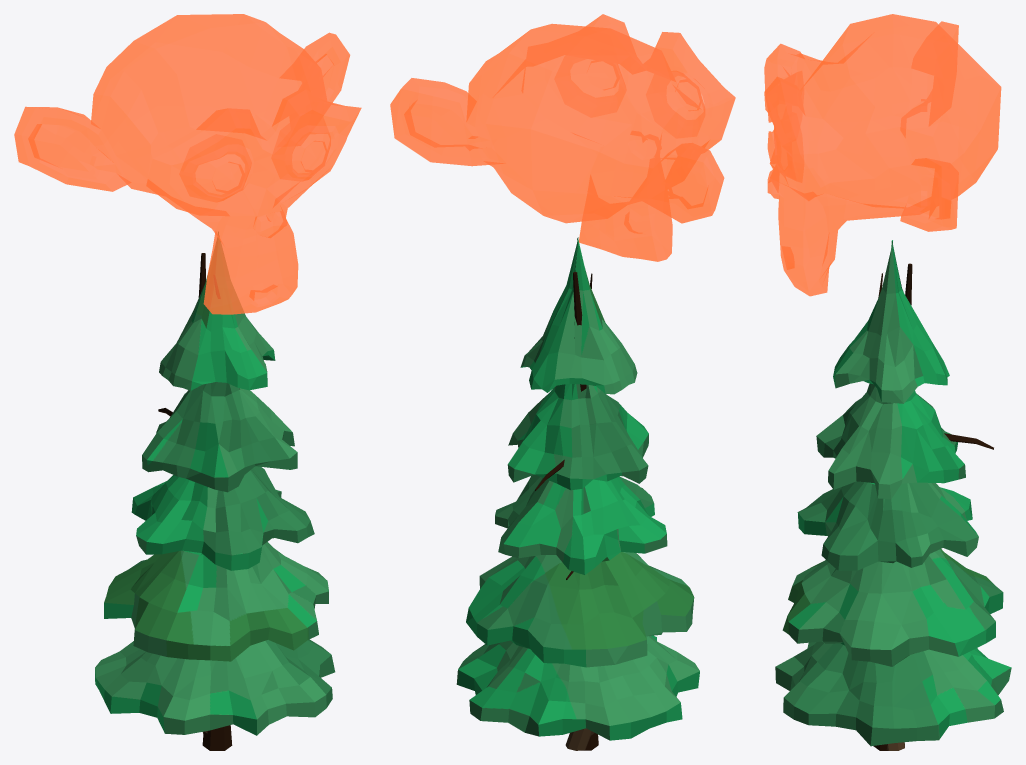
The model's file is tree3.glb.
3 renders of one model, left to right at view 1: azimuth 30°, elevation 25°; view 2: azimuth 150°, elevation 25°; view 3: azimuth 270°, elevation 25°, orthographic.
Visible parts, largest first — view 1: greenTree, fire, deadTree; view 2: greenTree, fire, deadTree; view 3: greenTree, fire, deadTree.
Part boxes in pixels (x1,y1,x2,y2): greenTree: (95,232,335,735); fire: (14,14,361,314); deadTree: (158,253,232,750); greenTree: (456,237,699,750); fire: (390,14,735,261); deadTree: (535,271,598,750); greenTree: (775,240,1011,750); fire: (764,14,1001,296); deadTree: (873,263,993,750).
Size of the model in its own units: 0.1131 by 0.2326 by 0.0735.
Materials: 3 (1 with a texture image).
